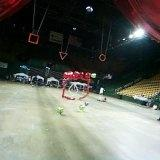Green_Balloon: (56, 108, 62, 114), (80, 105, 85, 112)
Orange_Circle_GShape: (28, 32, 39, 44), (98, 52, 106, 62)
Orange_Triangle_Gshape: (59, 51, 67, 60)
Purple_Balloon: (86, 6, 93, 13), (84, 102, 88, 106)
